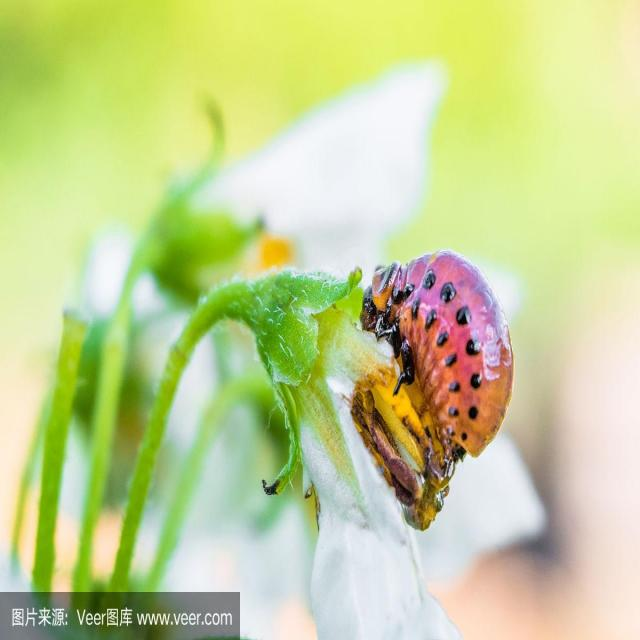ShuCaiHuaBanChong-Larva-: (348, 237, 518, 479)
